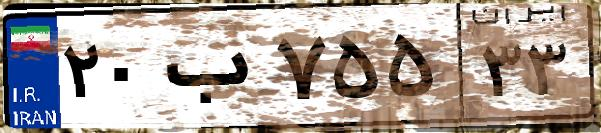0: (110, 28, 158, 98)
2: (57, 26, 110, 100)
3: (475, 38, 525, 113), (525, 38, 570, 115)
5: (385, 28, 445, 110), (330, 28, 385, 110)
7: (270, 28, 330, 110)
ب: (158, 20, 270, 120)
